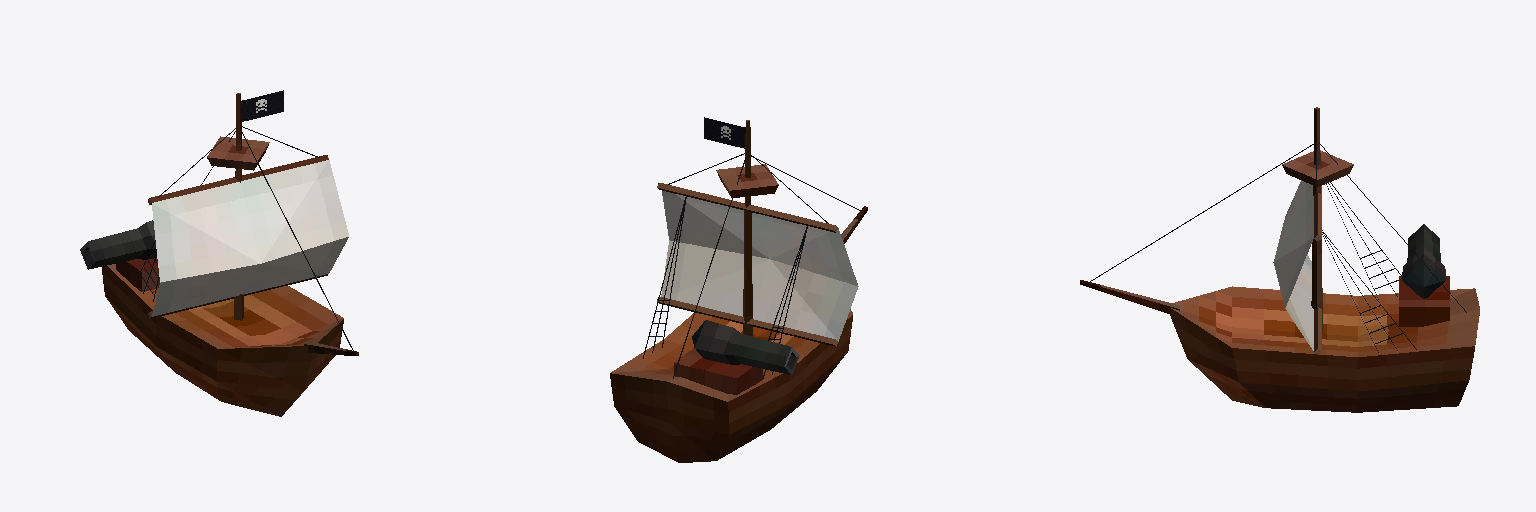
The picture shows the model from 3 angles: view 1: azimuth 30°, elevation 25°; view 2: azimuth 150°, elevation 25°; view 3: azimuth 270°, elevation 25°; orthographic projection.
Parts seen in each view (by area): view 1: Object_ship_diffuse.jpg; view 2: Object_ship_diffuse.jpg; view 3: Object_ship_diffuse.jpg.
Part boxes in pixels (left/top/right/bottom): Object_ship_diffuse.jpg: left=80, top=90, right=358, bottom=416; Object_ship_diffuse.jpg: left=610, top=117, right=867, bottom=462; Object_ship_diffuse.jpg: left=1080, top=107, right=1479, bottom=412.
Size of the model in its own units: 1.38 by 2.05 by 2.5.
2 materials, 1 textured.